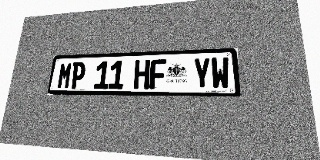1: (108, 60, 125, 89), (94, 61, 110, 89)
F: (149, 59, 166, 89)
H: (133, 60, 150, 89)
M: (57, 62, 73, 89)
P: (70, 62, 86, 89)
W: (211, 57, 230, 89)
Y: (193, 58, 211, 89)
